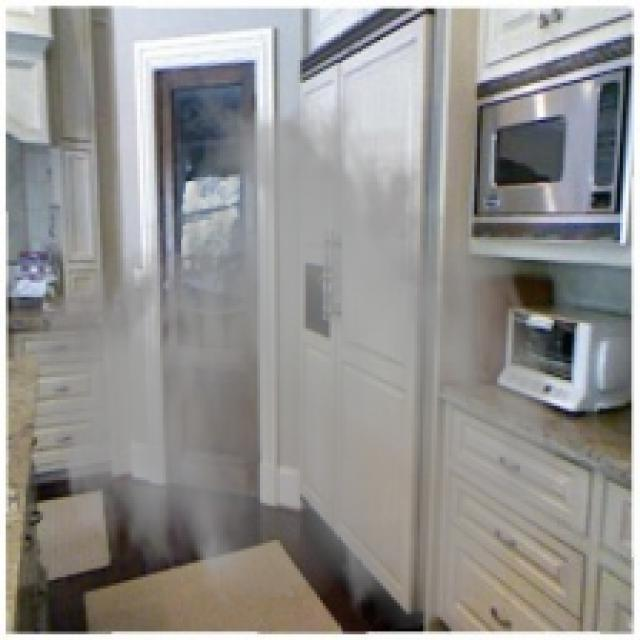Smoke: (22, 77, 578, 634)
